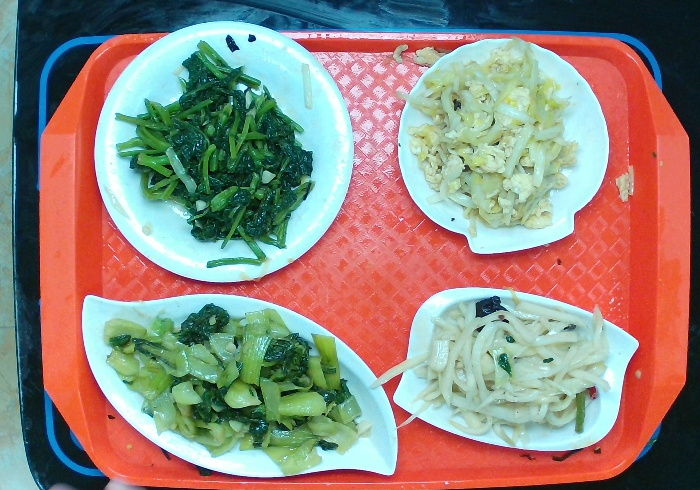RJxy-Bei_Ke_Wan: (395, 36, 612, 255)
RJxy-Jian_Jiao_Fang_Die: (391, 284, 640, 453)
RJxy-Jian_Jiao_Pan: (78, 292, 401, 480)
RJxy-Yuan_Pan: (92, 18, 356, 283)
